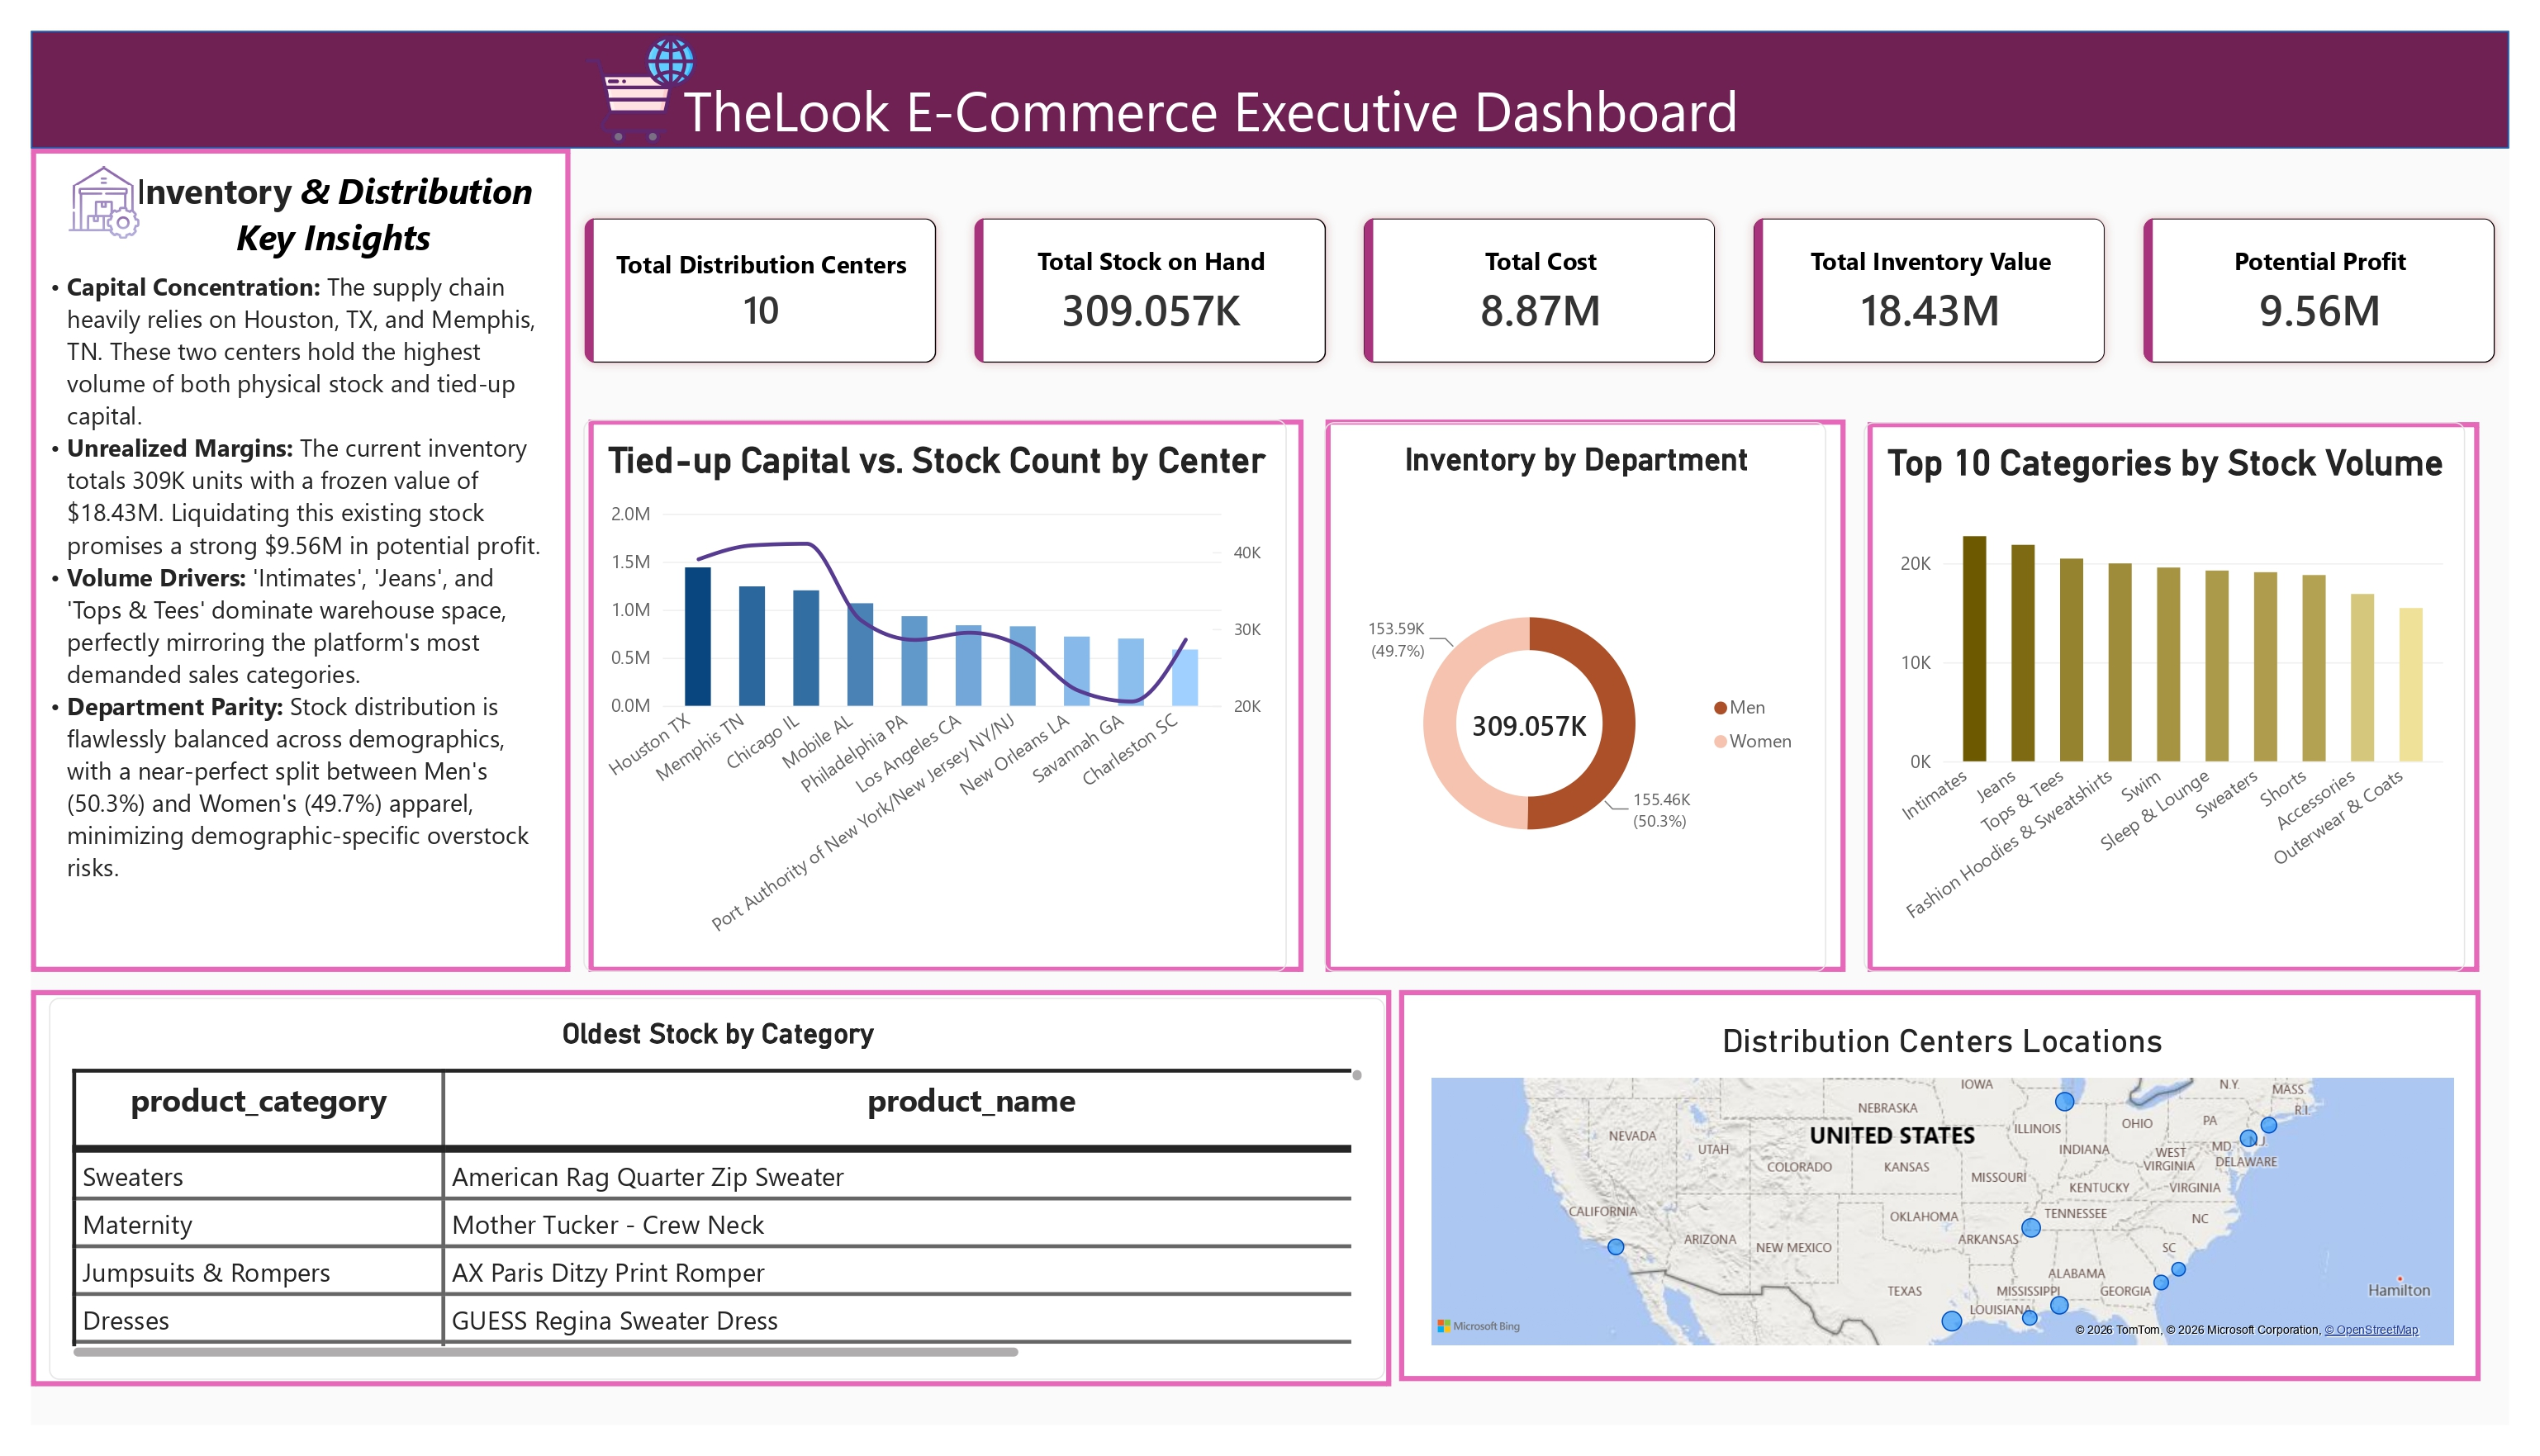

The page's visual inventory and layout, read from the dashboard file:
{"tool":"powerbi","page":{"name":"Inventory & Distribution","canvas":[1920,1080],"ordinal":3},"visuals":[{"type":"shape","box":[0,90.6,417.8,638.1],"z":0},{"type":"shape","box":[0,0,1920.4,90.6],"z":1000},{"type":"textbox","box":[458.9,32.1,910.7,73.2],"z":2000},{"type":"image","box":[417.9,0,109.1,90.6],"z":3000},{"type":"group","id":"g1","title":"Group 1","box":[431.8,300.5,554.1,428.1],"z":4000,"group":"g3"},{"type":"group","id":"g2","title":"Group 1","box":[1423.4,302.6,474.3,426.1],"z":4000,"group":"g12"},{"type":"textbox","box":[496,398,132,244],"z":4000},{"type":"group","id":"g3","title":"Group 2","box":[428.1,300.5,557.8,428.1],"z":5000},{"type":"group","id":"g4","title":"Group 3","box":[1002.4,300.5,403.4,428.1],"z":6000},{"type":"lineClusteredColumnComboChart","title":"Tied-up Capital vs. Stock Count by Center","fields":{"Category":["distribution_centers.name"],"Y":["Sum(inventory_items.Potential Profit)"],"Y2":["CountNonNull(inventory_items.product_id)"]},"box":[428.1,300.5,544.7,428.1],"z":7000,"group":"g3"},{"type":"group","id":"g5","title":"Group 1","box":[1003.1,300.5,402.8,428.1],"z":7000,"group":"g4"},{"type":"columnChart","title":"Top 10 Categories by Stock Volume","fields":{"Category":["inventory_items.product_category"],"Y":["CountNonNull(inventory_items.product_id)"]},"box":[1420.2,302.6,466.4,426.1],"z":7000,"group":"g12"},{"type":"group","id":"g6","title":"Group 1","box":[0,743.1,1053.9,306.7],"z":7000,"group":"g11"},{"type":"group","id":"g7","title":"Group 5","box":[1060,743.1,837.7,302.6],"z":7000},{"type":"group","id":"g8","title":"Group 1","box":[1060,743.1,837.7,302.6],"z":7000,"group":"g10"},{"type":"textbox","box":[67.9,105,333.4,80.3],"z":8000},{"type":"donutChart","title":"Inventory by Department","fields":{"Category":["inventory_items.product_department"],"Y":["CountNonNull(inventory_items.product_id)"]},"box":[1002.4,302.6,388.9,425.5],"z":8001,"group":"g4"},{"type":"image","box":[0,105,113.2,55.6],"z":9000},{"type":"group","id":"g9","title":"Group 6","box":[0,743.1,1053.9,306.7],"z":9000,"group":"g13"},{"type":"group","id":"g10","title":"Group 3","box":[1060,743.1,837.7,302.6],"z":9000,"group":"g7"},{"type":"textbox","box":[0,185.2,401.4,516.6],"z":10000},{"type":"group","id":"g11","title":"Group 3","box":[0,743.1,1053.9,306.7],"z":10000,"group":"g9"},{"type":"map","title":"Distribution Centers Locations","fields":{"Size":["Sum(inventory_items.product_retail_price)"],"X":["distribution_centers.longitude"],"Y":["distribution_centers.latitude"]},"box":[1068.9,753.5,823.8,280.6],"z":10000,"group":"g7"},{"type":"cardVisual","fields":{"Data":["Count(distribution_centers.name)","CountNonNull(inventory_items.id)","Sum(inventory_items.cost)","Sum(inventory_items.product_retail_price)","Sum(inventory_items.Potential Profit)"]},"box":[418,134,1502,134],"z":11000},{"type":"group","id":"g12","title":"Group 2","box":[1420.2,302.6,477.5,426.1],"z":12000},{"type":"shape","box":[431.8,300.5,554.1,428.1],"z":13000,"group":"g1"},{"type":"shape","box":[1003.1,300.5,402.8,428.1],"z":13000,"group":"g5"},{"type":"shape","box":[1423.4,302.6,474.3,426.1],"z":13000,"group":"g2"},{"type":"shape","box":[0,743.1,1053.9,306.7],"z":13000,"group":"g6"},{"type":"group","id":"g13","title":"Group 4","box":[0,743.1,1053.9,306.7],"z":13000},{"type":"shape","box":[1060,743.1,837.7,302.6],"z":13000,"group":"g8"},{"type":"tableEx","title":"Oldest Stock by Category","fields":{"Values":["inventory_items.product_category","inventory_items.product_name","inventory_items.created_at"]},"box":[14.3,749.2,1034.4,296.4],"z":14002,"group":"g13"}]}

Visuals, with their boxes on the page's 1920x1080 design canvas (x1, y1, x2, y2). These are canvas units, not pixel positions in the 2540x1456 screenshot, which may show the page scaled, cropped or inside an application window:
shape: <box>0,91,418,729</box>
shape: <box>0,0,1920,91</box>
textbox: <box>459,32,1370,105</box>
image: <box>418,0,527,91</box>
"Group 1" group: <box>432,300,986,729</box>
"Group 1" group: <box>1423,303,1898,729</box>
textbox: <box>496,398,628,642</box>
"Group 2" group: <box>428,300,986,729</box>
"Group 3" group: <box>1002,300,1406,729</box>
"Tied-up Capital vs. Stock Count by Center" lineClusteredColumnComboChart: <box>428,300,973,729</box>
"Group 1" group: <box>1003,300,1406,729</box>
"Top 10 Categories by Stock Volume" columnChart: <box>1420,303,1887,729</box>
"Group 1" group: <box>0,743,1054,1050</box>
"Group 5" group: <box>1060,743,1898,1046</box>
"Group 1" group: <box>1060,743,1898,1046</box>
textbox: <box>68,105,401,185</box>
"Inventory by Department" donutChart: <box>1002,303,1391,728</box>
image: <box>0,105,113,161</box>
"Group 6" group: <box>0,743,1054,1050</box>
"Group 3" group: <box>1060,743,1898,1046</box>
textbox: <box>0,185,401,702</box>
"Group 3" group: <box>0,743,1054,1050</box>
"Distribution Centers Locations" map: <box>1069,754,1893,1034</box>
cardVisual - Count(distribution_centers.name) x CountNonNull(inventory_items.id): <box>418,134,1920,268</box>
"Group 2" group: <box>1420,303,1898,729</box>
shape: <box>432,300,986,729</box>
shape: <box>1003,300,1406,729</box>
shape: <box>1423,303,1898,729</box>
shape: <box>0,743,1054,1050</box>
"Group 4" group: <box>0,743,1054,1050</box>
shape: <box>1060,743,1898,1046</box>
"Oldest Stock by Category" tableEx: <box>14,749,1049,1046</box>
